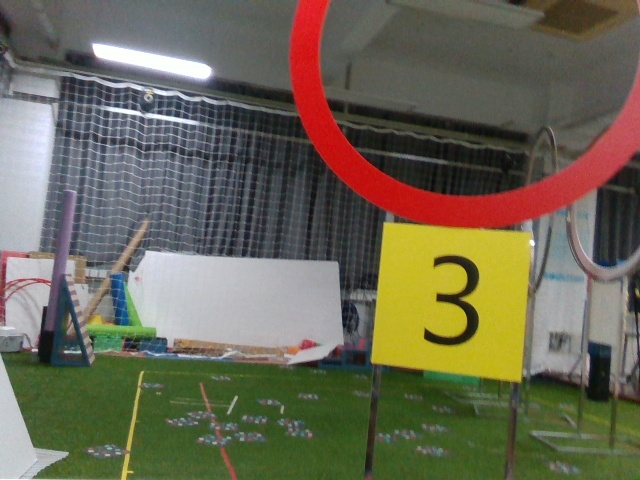target: (389, 236, 518, 361)
